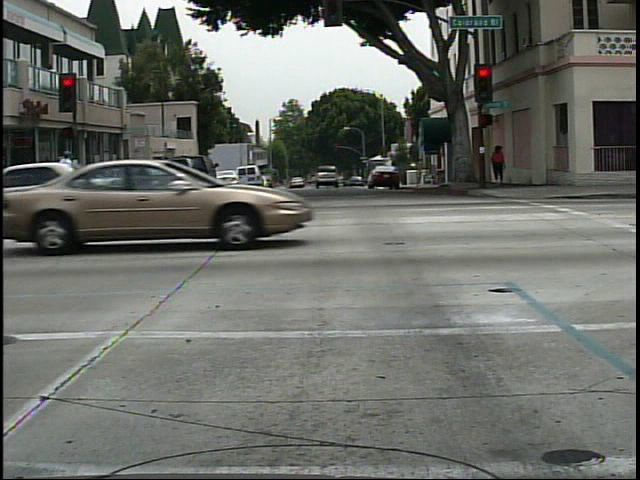person: (51, 143, 79, 205), (490, 142, 507, 184)
